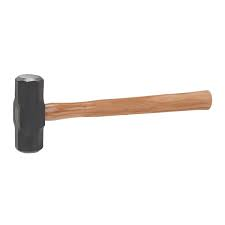hammer: (12, 73, 213, 155)
